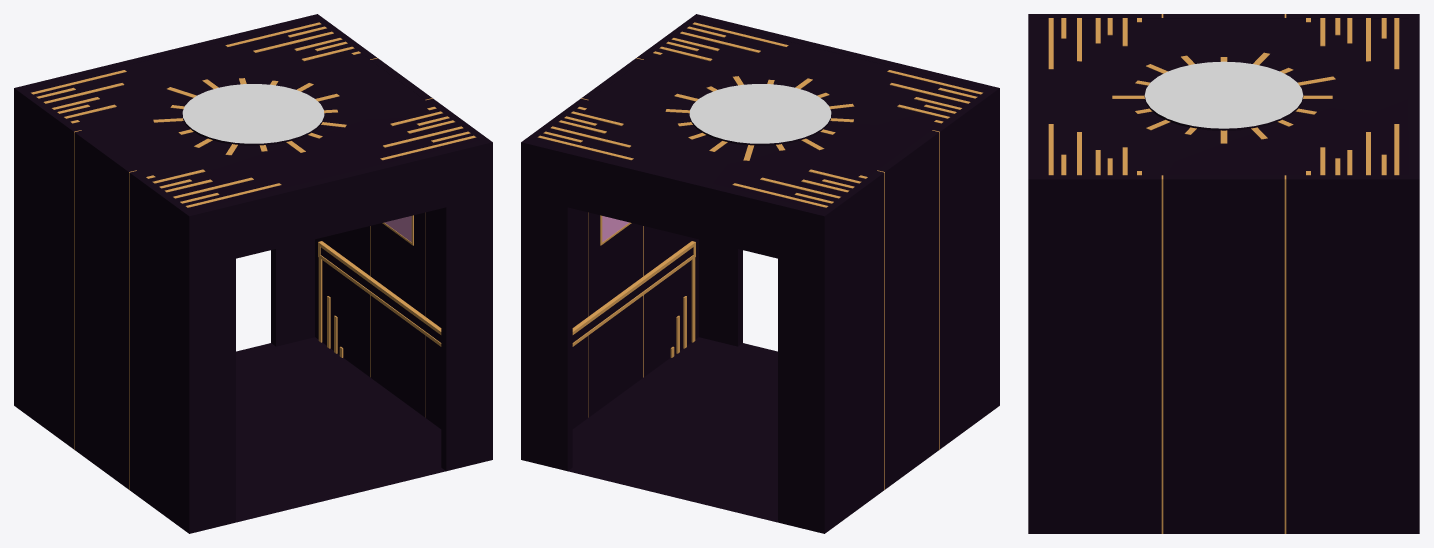
Rendered from Elevator Capsule.fbx.
3 views of the same model, side by side, from view 1: azimuth 30°, elevation 25°; view 2: azimuth 150°, elevation 25°; view 3: azimuth 270°, elevation 25° (orthographic). The views are drawn at different scales.
Parts seen in each view (by area): view 1: Cabinefull; view 2: Cabinefull; view 3: Cabinefull.
Boxes of the visible parts, left/top/right/bottom form: Cabinefull: left=14, top=14, right=492, bottom=533; Cabinefull: left=521, top=14, right=999, bottom=533; Cabinefull: left=1028, top=14, right=1419, bottom=533.
Bounding box in the file's own units: 300 × 304 × 300.
